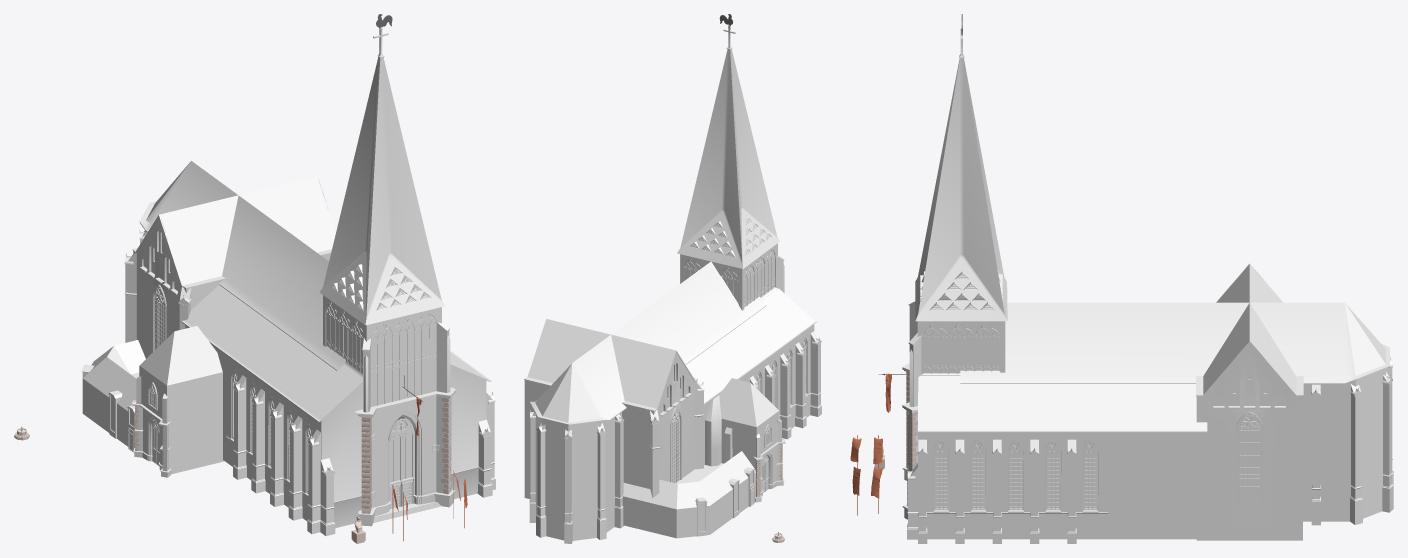
Rendered from church_st_georg_LOD0.glb.
3 views of the same model, side by side, from view 1: azimuth 30°, elevation 25°; view 2: azimuth 150°, elevation 25°; view 3: azimuth 270°, elevation 25° (orthographic). The views are drawn at different scales.
Parts seen in each view (by area): view 1: node_0, node_3, node_1, node_2, node_4; view 2: node_0, node_3, node_1, node_2, node_4; view 3: node_0, node_3, node_1, node_2, node_5, node_4.
Boxes of the visible parts, x1,y1,x2,y2 form: node_0: (82,192,495,535); node_3: (128,161,491,452); node_1: (81,27,445,412); node_2: (111,288,412,482); node_4: (14,397,451,543); node_0: (524,243,821,543); node_3: (524,255,816,506); node_1: (623,25,779,509); node_2: (671,340,805,531); node_4: (755,444,784,542); node_0: (902,270,1393,543); node_3: (902,263,1389,432); node_1: (915,27,1007,321); node_2: (935,413,1260,508); node_5: (850,373,891,515); node_4: (874,372,917,506).
Size of the model in its own units: 48.3 by 72.53 by 73.28.
